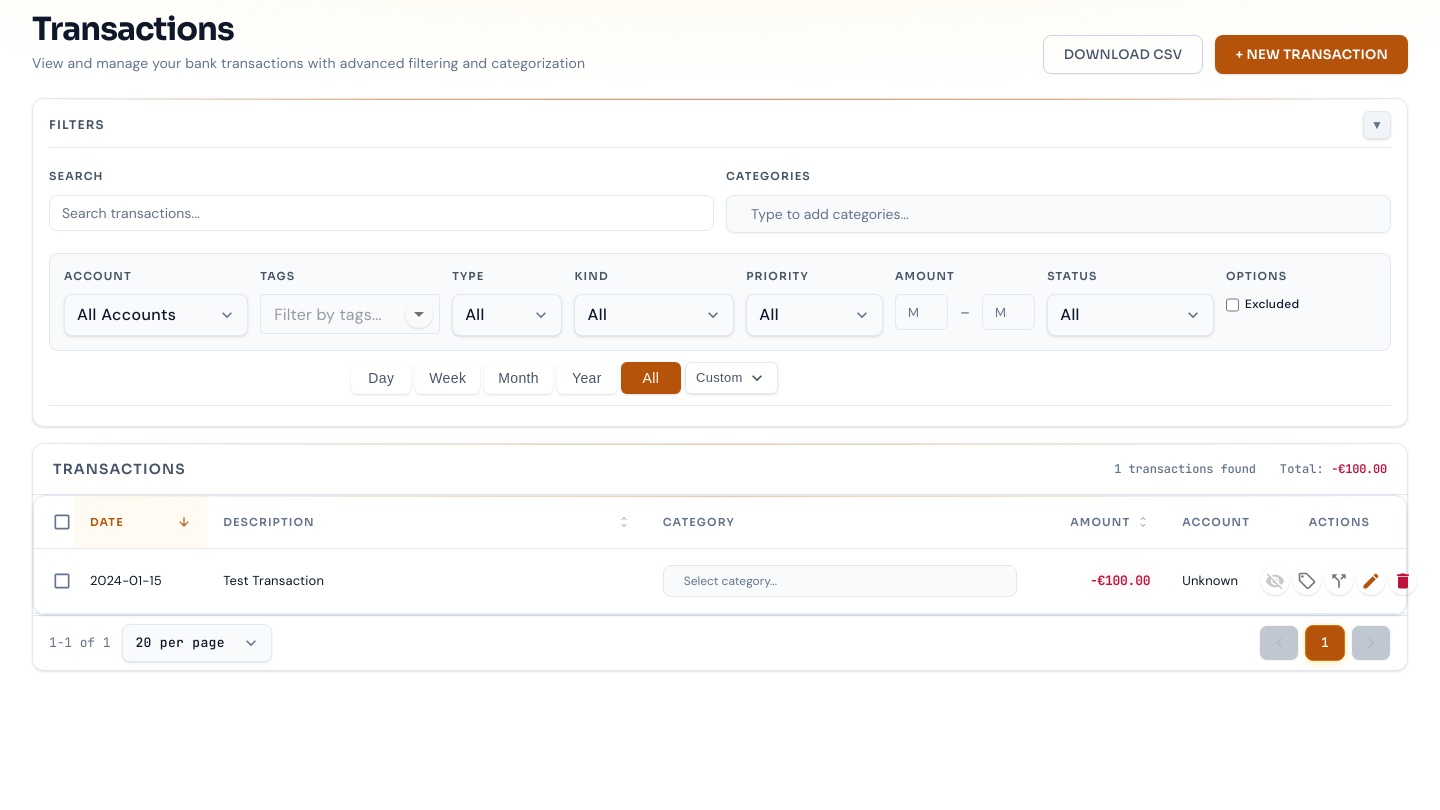
Transaction Split › AC3: Validation error when amounts do not sum to parent amount › shows validation error when amounts do not sum to parent amount
Expected: the text "Test Transaction" is shown, [223,572,324,589]
Click the button named "split": point(1339, 581) [1325,567,1353,595]
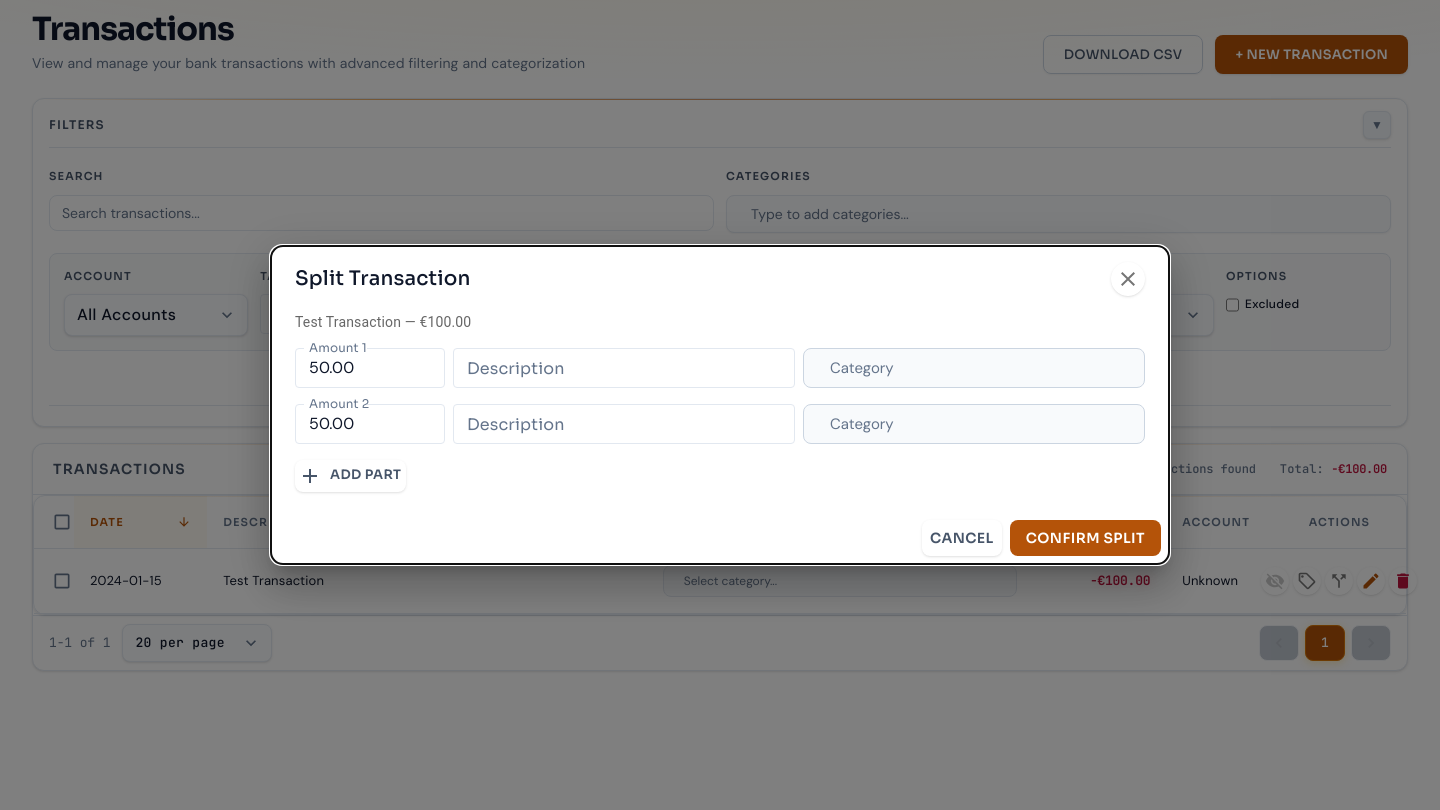
Replace the text in the number field labelled "Amount 1" with "60": point(370, 368) [295,348,445,388]
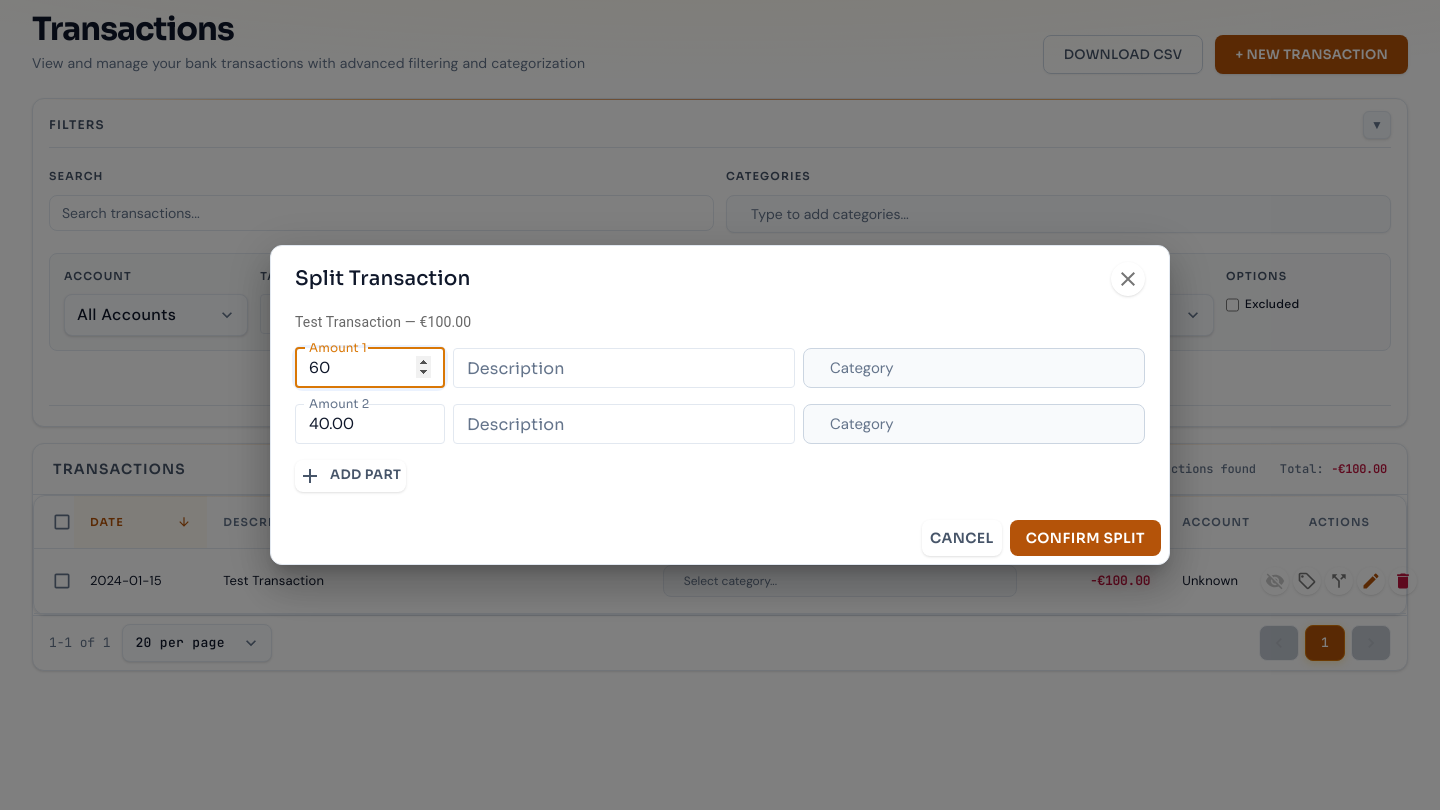
Replace the text in the number field labelled "Amount 2" with "30": point(370, 424) [295,404,445,444]
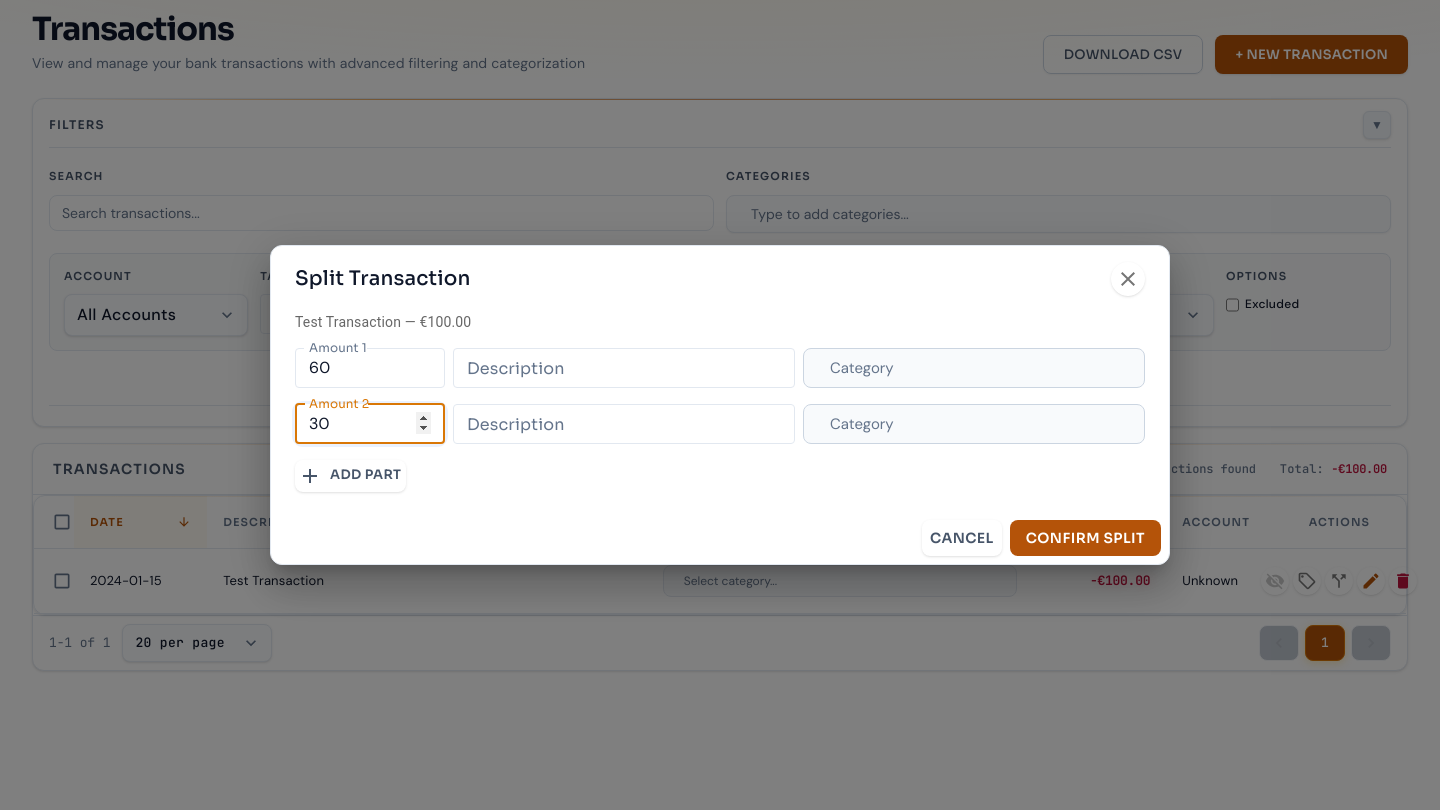
Click the button "Confirm Split": point(1085, 538) [1010,520,1161,556]
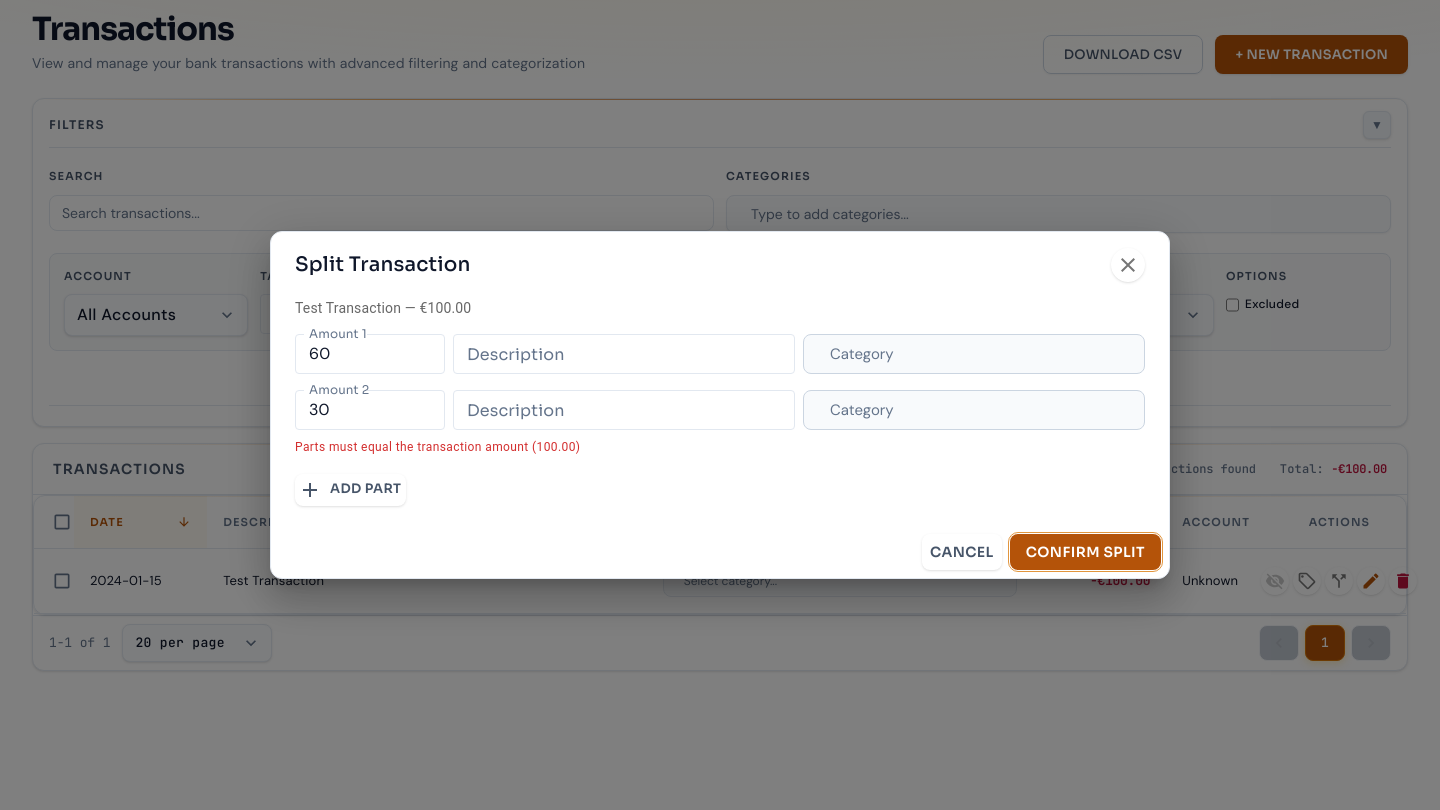
Expected: the text "Parts must equal the transaction amount (100.00)" is shown, [295,440,580,454]
